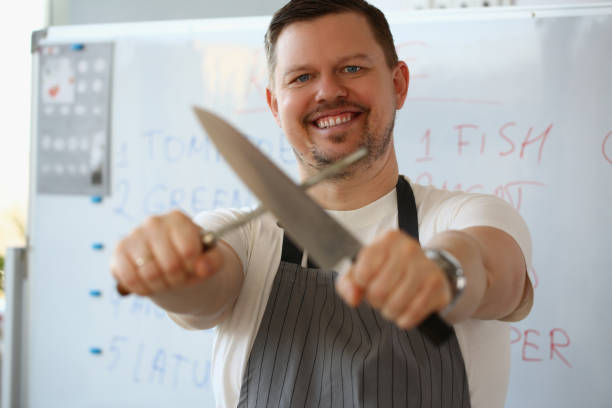knife: (191, 102, 459, 353)
